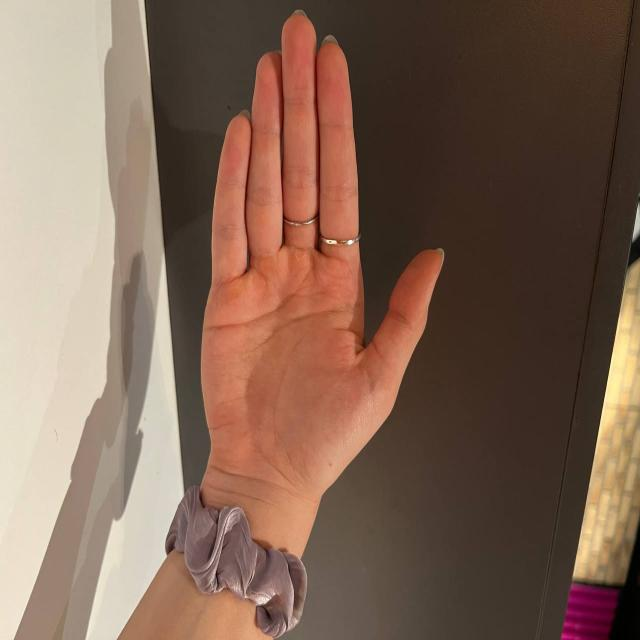v: (202, 10, 448, 492)
